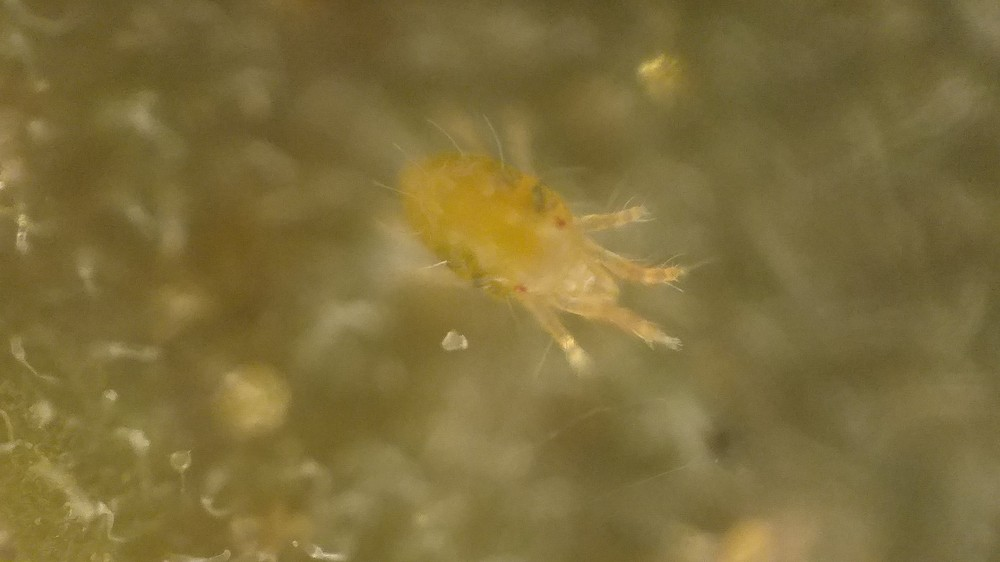Aracnido Rojo: (352, 103, 743, 397)
